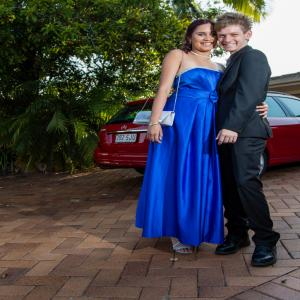Vehicle-registration-plate: (116, 133, 140, 144)
